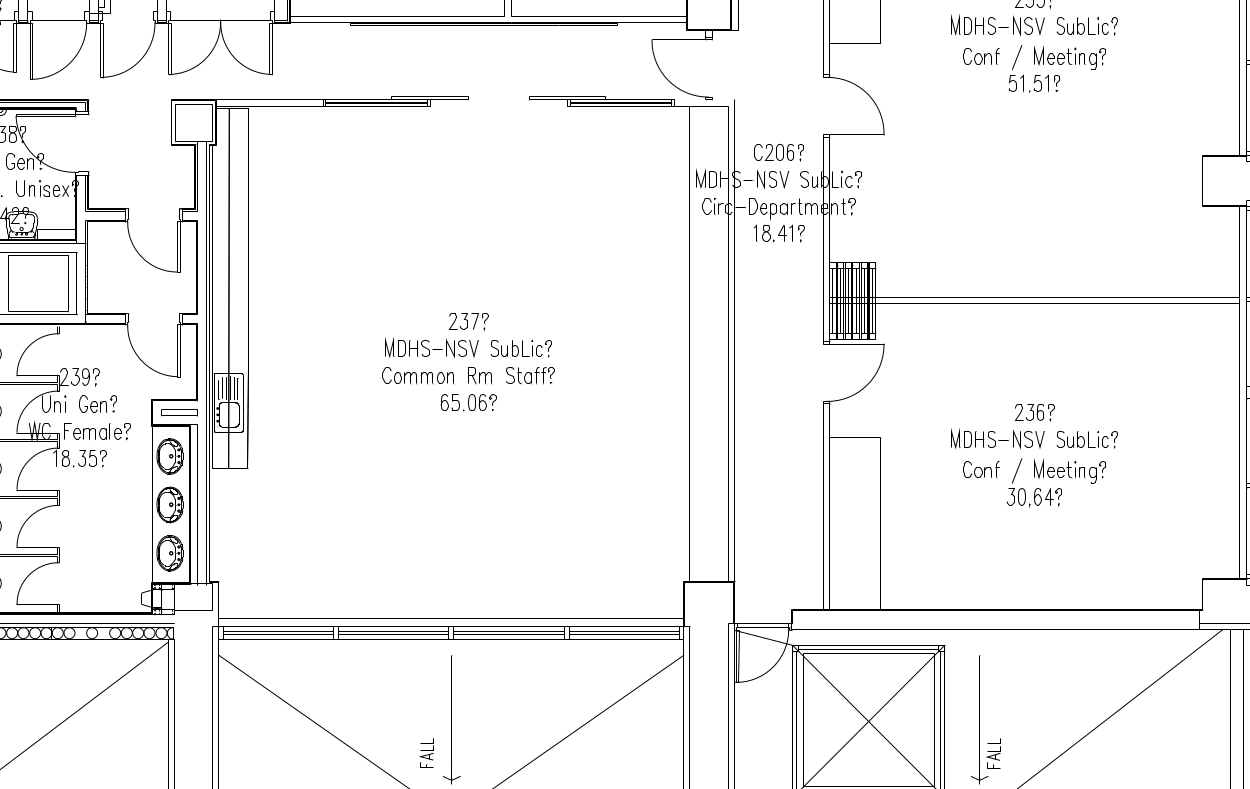door: (647, 36, 723, 103), (816, 76, 893, 138), (821, 340, 898, 402), (118, 323, 185, 387), (121, 223, 188, 287), (17, 331, 59, 377), (15, 447, 57, 493), (14, 506, 56, 552), (13, 563, 55, 609)
